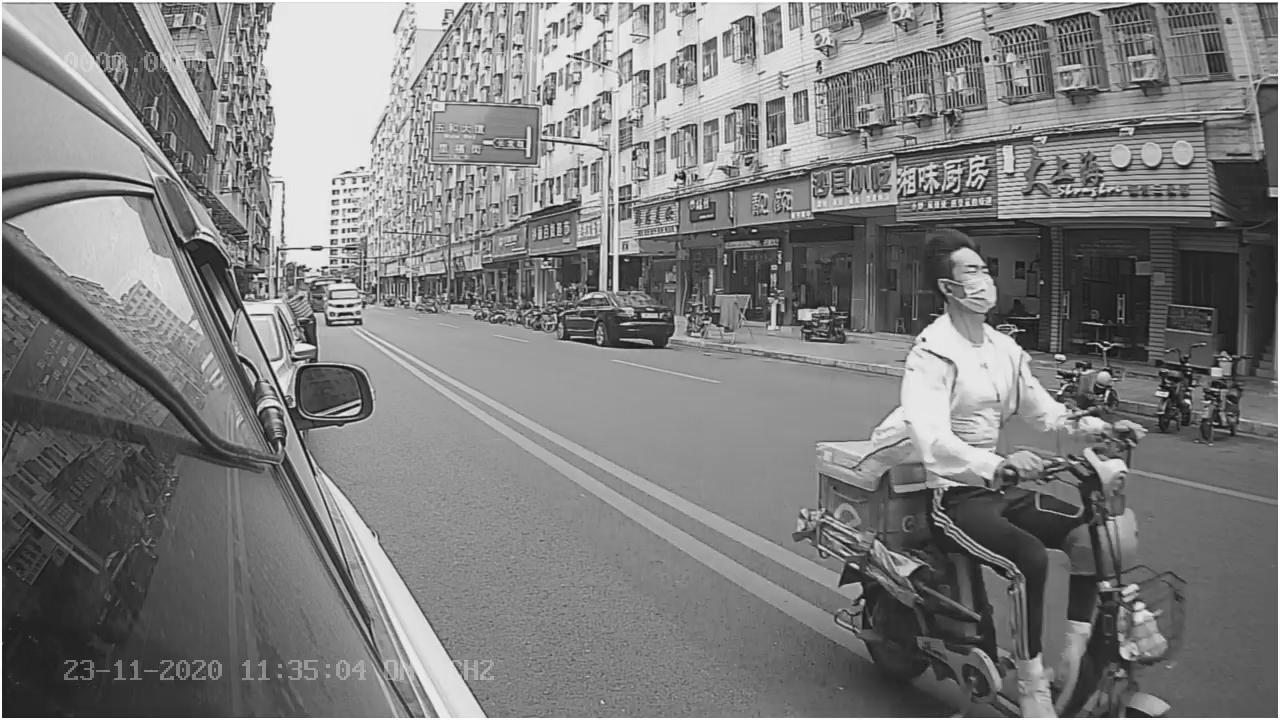person: (902, 229, 1120, 471)
